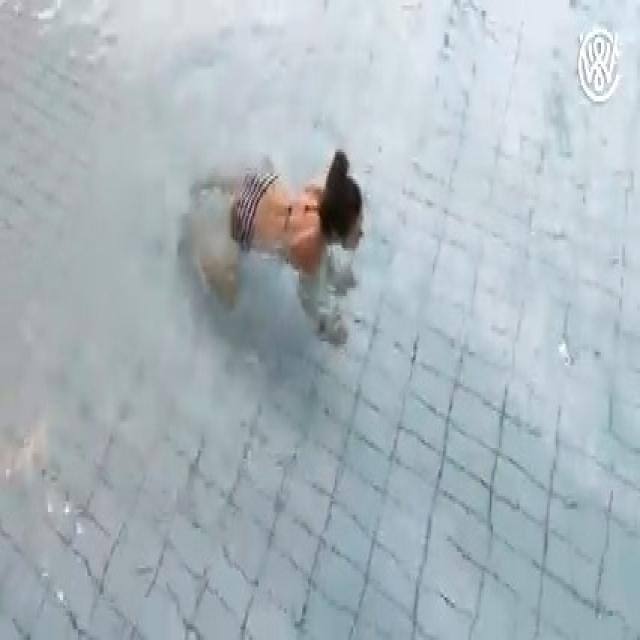Swimming: (174, 153, 358, 344)
